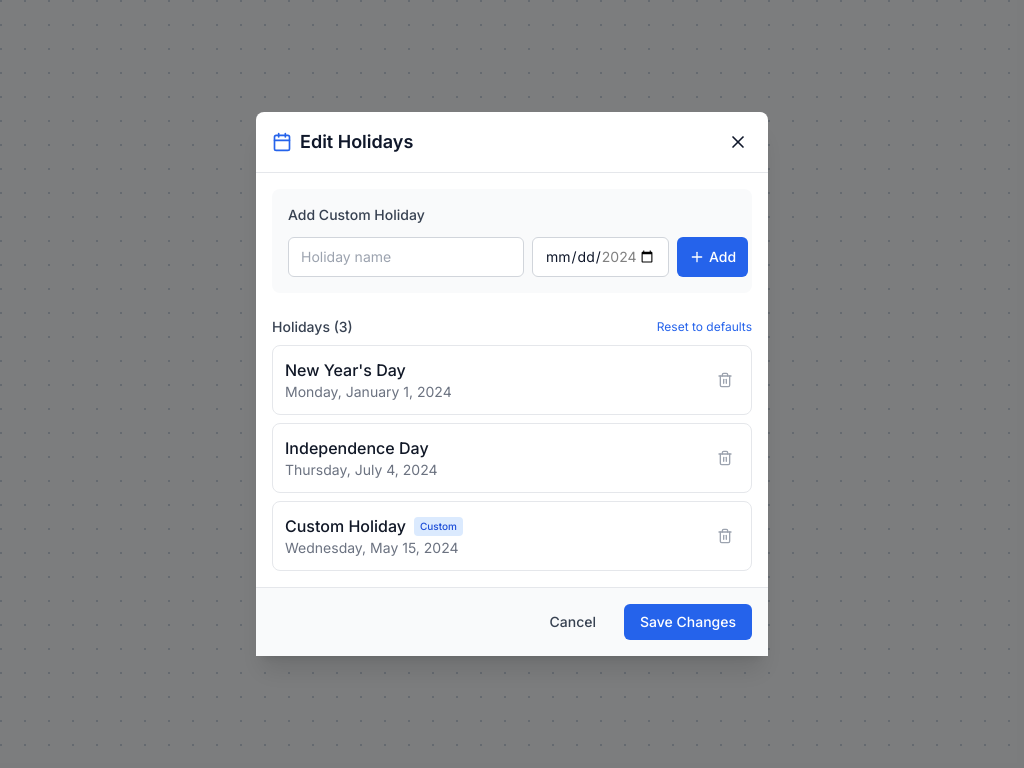
Scenario: HolidayEditModal › Adding Holidays › should show error when name is empty
The width and height of the screenshot is (1024, 768).
Type "2024-03-15" into the date field at (600, 257), box x1=532 y1=237 x2=669 y2=277
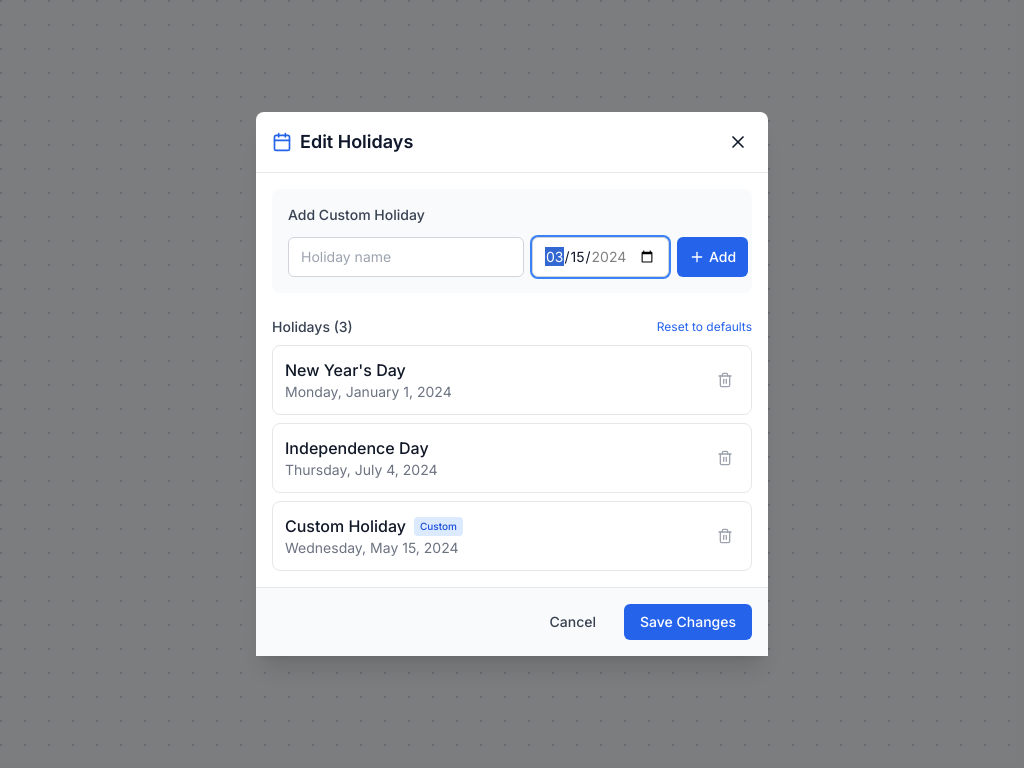
Click the button "Add" at (713, 257), box x1=677 y1=237 x2=748 y2=277
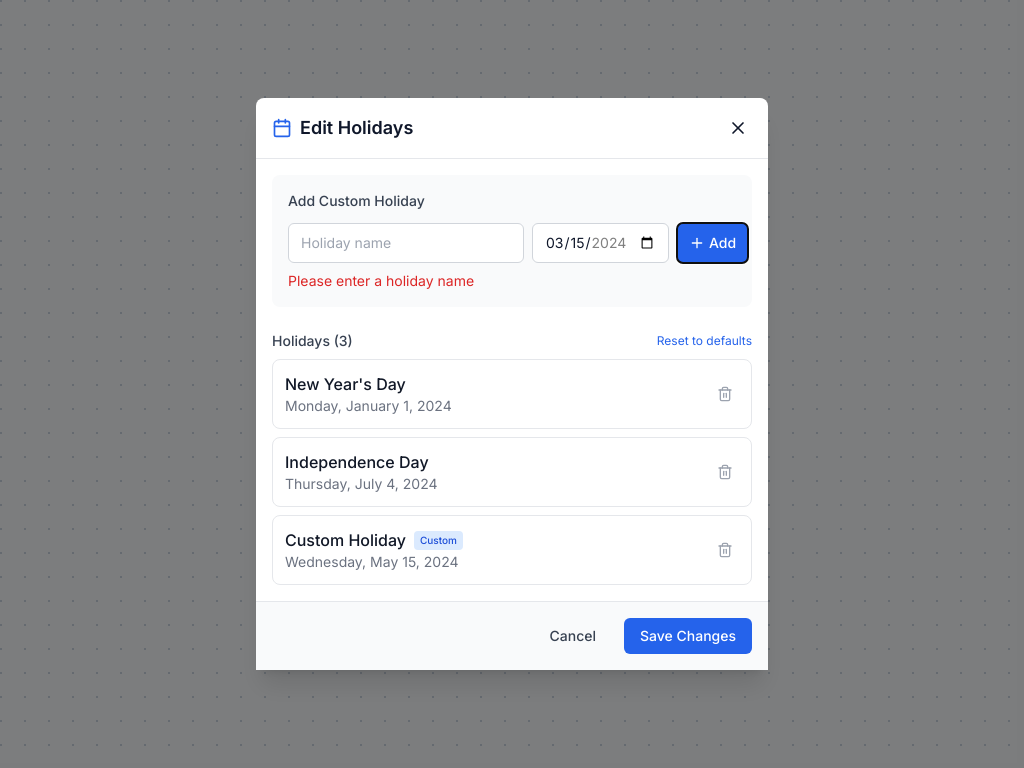
Expected: the text "Please enter a holiday name" is shown, x1=288 y1=272 x2=474 y2=289
